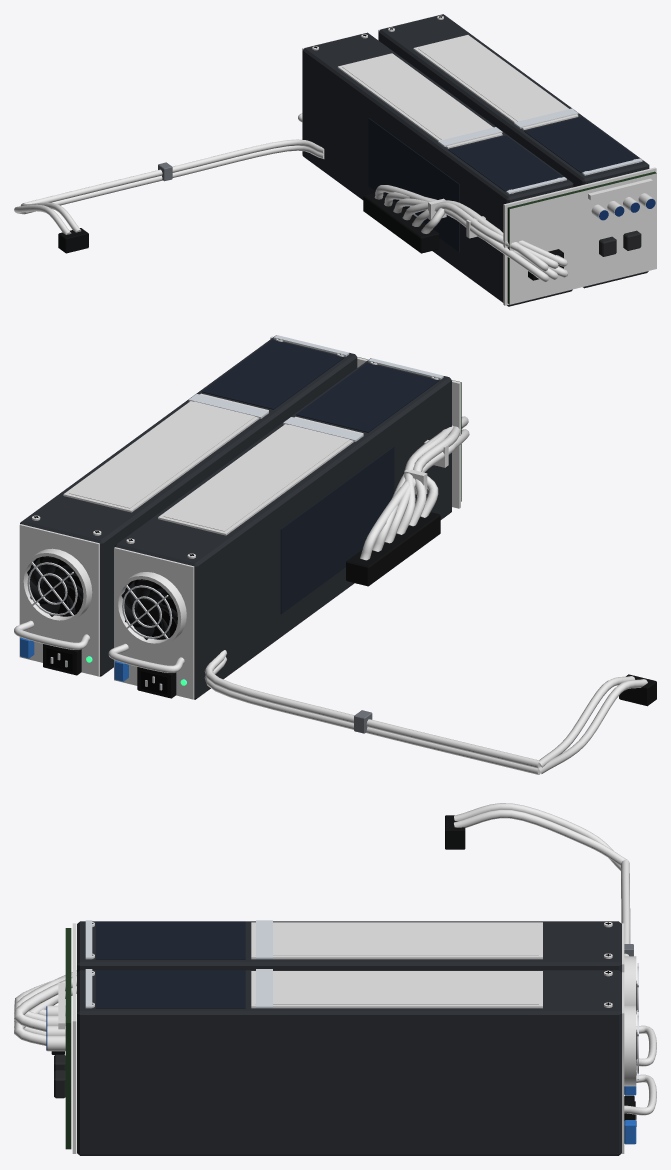
Rendered from hwm_psu_1100w_plat.glb.
The picture shows the model from 3 angles, top to bottom: view 1: azimuth 30°, elevation 25°; view 2: azimuth 150°, elevation 25°; view 3: azimuth 270°, elevation 25°; orthographic projection. The views are drawn at different scales.
Visible parts, largest first — view 1: Body, Cable_ATX24, Cable_EPS_Run, Cable_EPS_Plug; view 2: Body, Cable_ATX24, Cable_EPS_Run, Cable_EPS_Plug; view 3: Body, Cable_EPS_Plug, Cable_ATX24, Cable_EPS_Run.
Part boxes in pixels (x1,y1,x2,y2): Body: (298, 14, 656, 306); Cable_ATX24: (363, 185, 568, 281); Cable_EPS_Run: (23, 139, 324, 214); Cable_EPS_Plug: (14, 202, 88, 253); Body: (14, 335, 461, 699); Cable_ATX24: (346, 416, 469, 586); Cable_EPS_Run: (204, 650, 540, 774); Cable_EPS_Plug: (538, 674, 656, 773); Body: (46, 920, 656, 1155); Cable_EPS_Plug: (445, 803, 627, 870); Cable_ATX24: (14, 970, 76, 1054); Cable_EPS_Run: (621, 859, 633, 956).
Size of the model in its own units: 0.4035 by 0.0958 by 0.3776.
